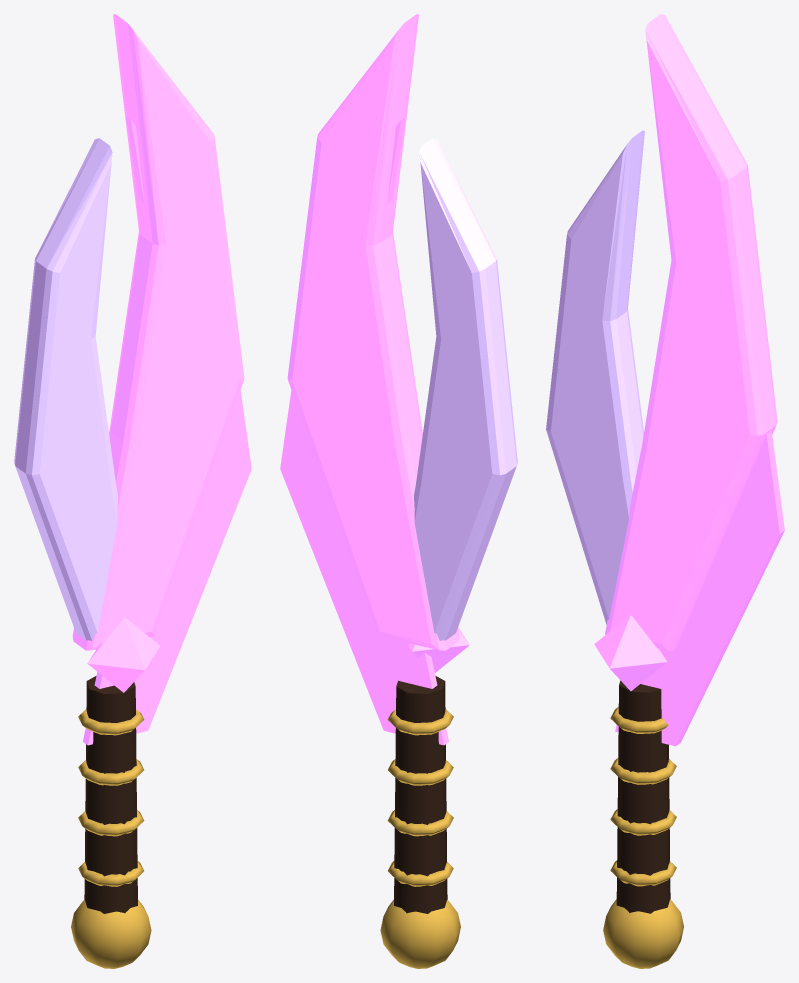
Rendered from dagger_f3_ac1be226.glb.
3 renders of one model, left to right at view 1: azimuth 30°, elevation 25°; view 2: azimuth 150°, elevation 25°; view 3: azimuth 330°, elevation 25°, orthographic.
Parts seen in each view (by area): view 1: m1_gm120_, m2_ow80_, m0_, m4_ow80_, m5_ow80_, m3_gm160_; view 2: m1_gm120_, m2_ow80_, m0_, m4_ow80_, m5_ow80_, m3_gm160_; view 3: m1_gm120_, m2_ow80_, m0_, m4_ow80_, m5_ow80_, m3_gm160_.
Part boxes in pixels (x1,y1,x2,y2): m1_gm120_: (72,14,244,650); m2_ow80_: (14,138,118,640); m0_: (83,117,251,745); m4_ow80_: (84,676,137,913); m5_ow80_: (71,709,151,968); m3_gm160_: (87,617,159,692); m1_gm120_: (287,14,459,650); m2_ow80_: (414,138,517,640); m0_: (280,117,448,745); m4_ow80_: (394,676,447,913); m5_ow80_: (380,709,460,968); m3_gm160_: (408,627,469,672); m1_gm120_: (605,14,777,650); m2_ow80_: (546,130,644,624); m0_: (615,431,784,746); m4_ow80_: (616,680,670,913); m5_ow80_: (603,707,683,968); m3_gm160_: (594,615,667,691).
Size of the model in its own units: 0.313 by 1.23 by 0.1257.
